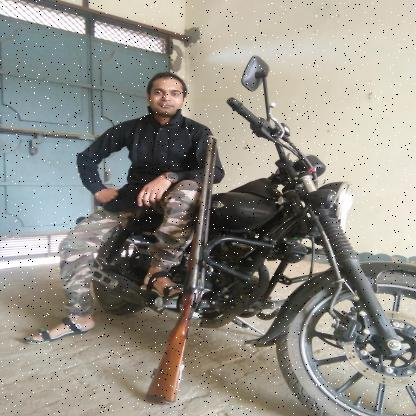rifle: (142, 134, 220, 406)
